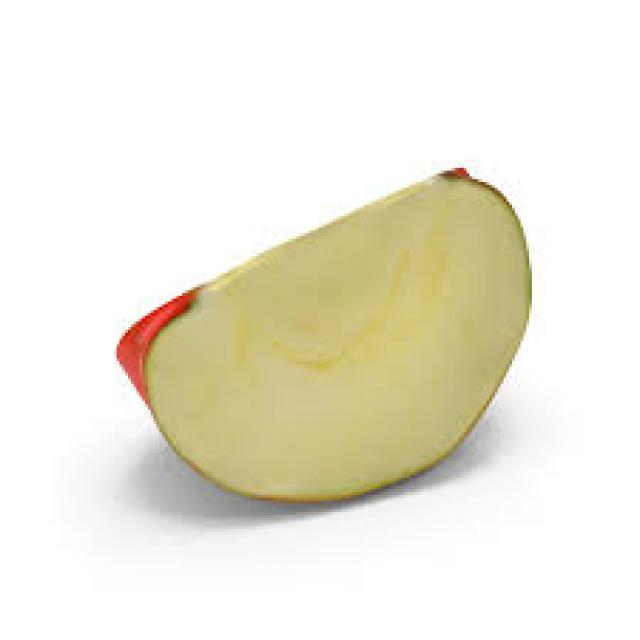Apple: (115, 166, 534, 504)
